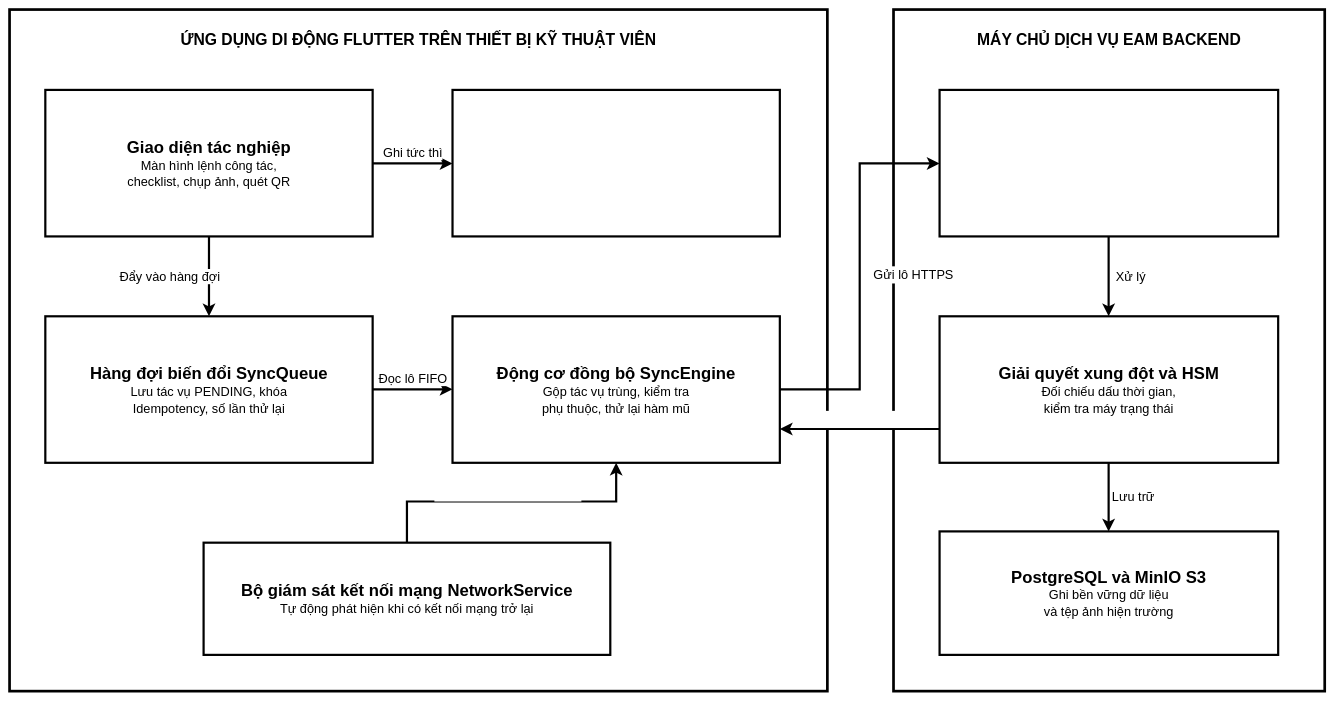
The diagram is 1335 pixels wide and 701 high, and some of its shapes have lost their labels. Here are the shapes that lost their labels. From the top down, the centre of each, then its label:
At [616,163]: "Cơ sở dữ liệu Drift SQLite Bảng Assets, WorkOrders, Checklists lưu trữ cục bộ".
At [1108,163]: "Cổng tiếp nhận đồng bộ API Xác thực JWT, kiểm tra khóa chống trùng lặp".
At [860,419]: "Phản hồi 200 / 409".
At [507,492]: "Kích hoạt triggerSync".
